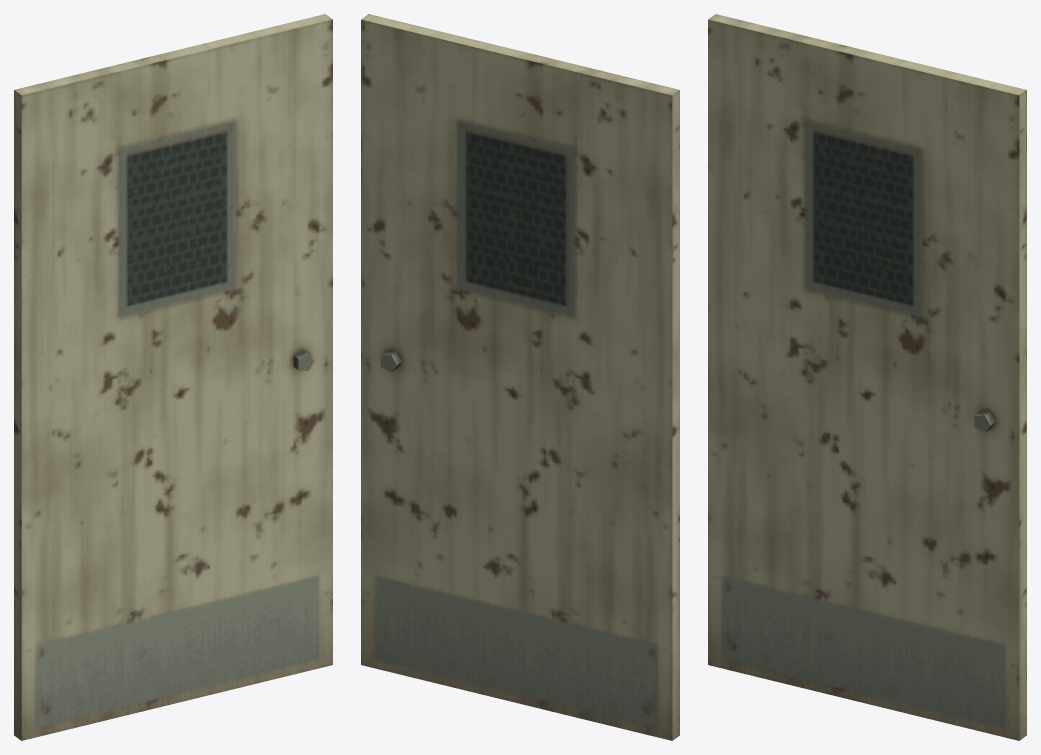
The model's file is Door_Ward_01.obj.
3 views of the same model, side by side, from view 1: azimuth 30°, elevation 25°; view 2: azimuth 150°, elevation 25°; view 3: azimuth 330°, elevation 25° (orthographic).
Parts seen in each view (by area): view 1: Door_Ward_01; view 2: Door_Ward_01; view 3: Door_Ward_01.
Part boxes in pixels (x1,y1,x2,y2): Door_Ward_01: (14, 14, 332, 740); Door_Ward_01: (361, 14, 679, 740); Door_Ward_01: (708, 14, 1026, 740).
Bounding box in the file's own units: 1.06 × 2.1 × 0.105.
1 material, 1 textured.
